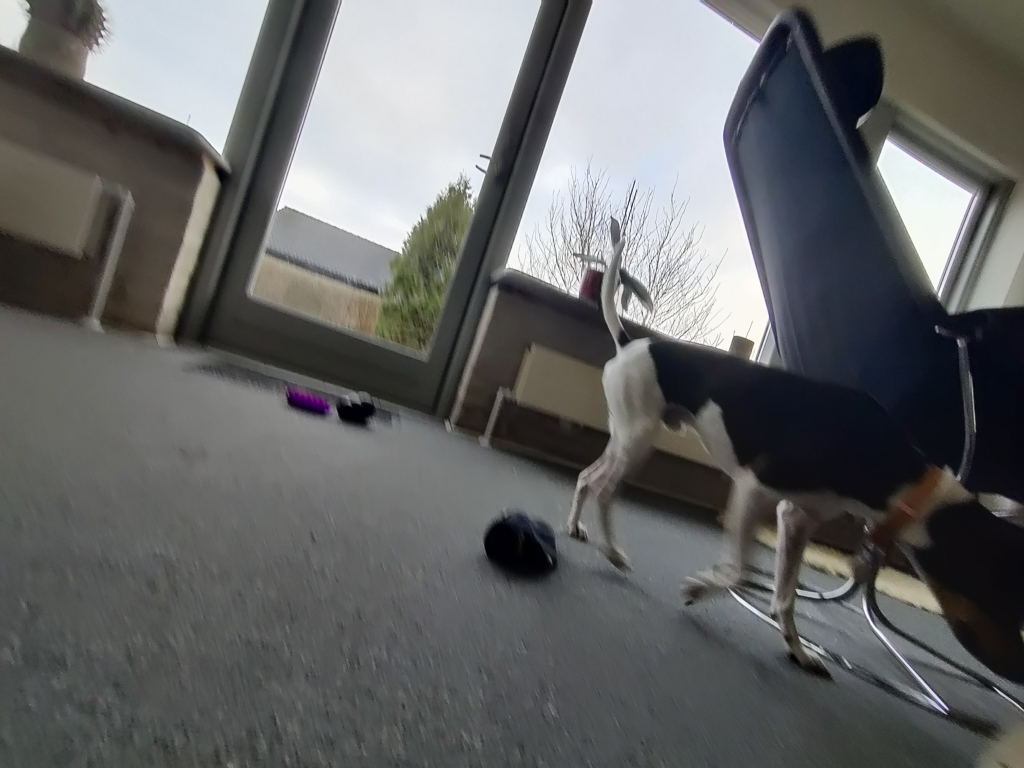Dog: (563, 234, 1024, 713)
Humanoid: (950, 687, 1024, 768)
